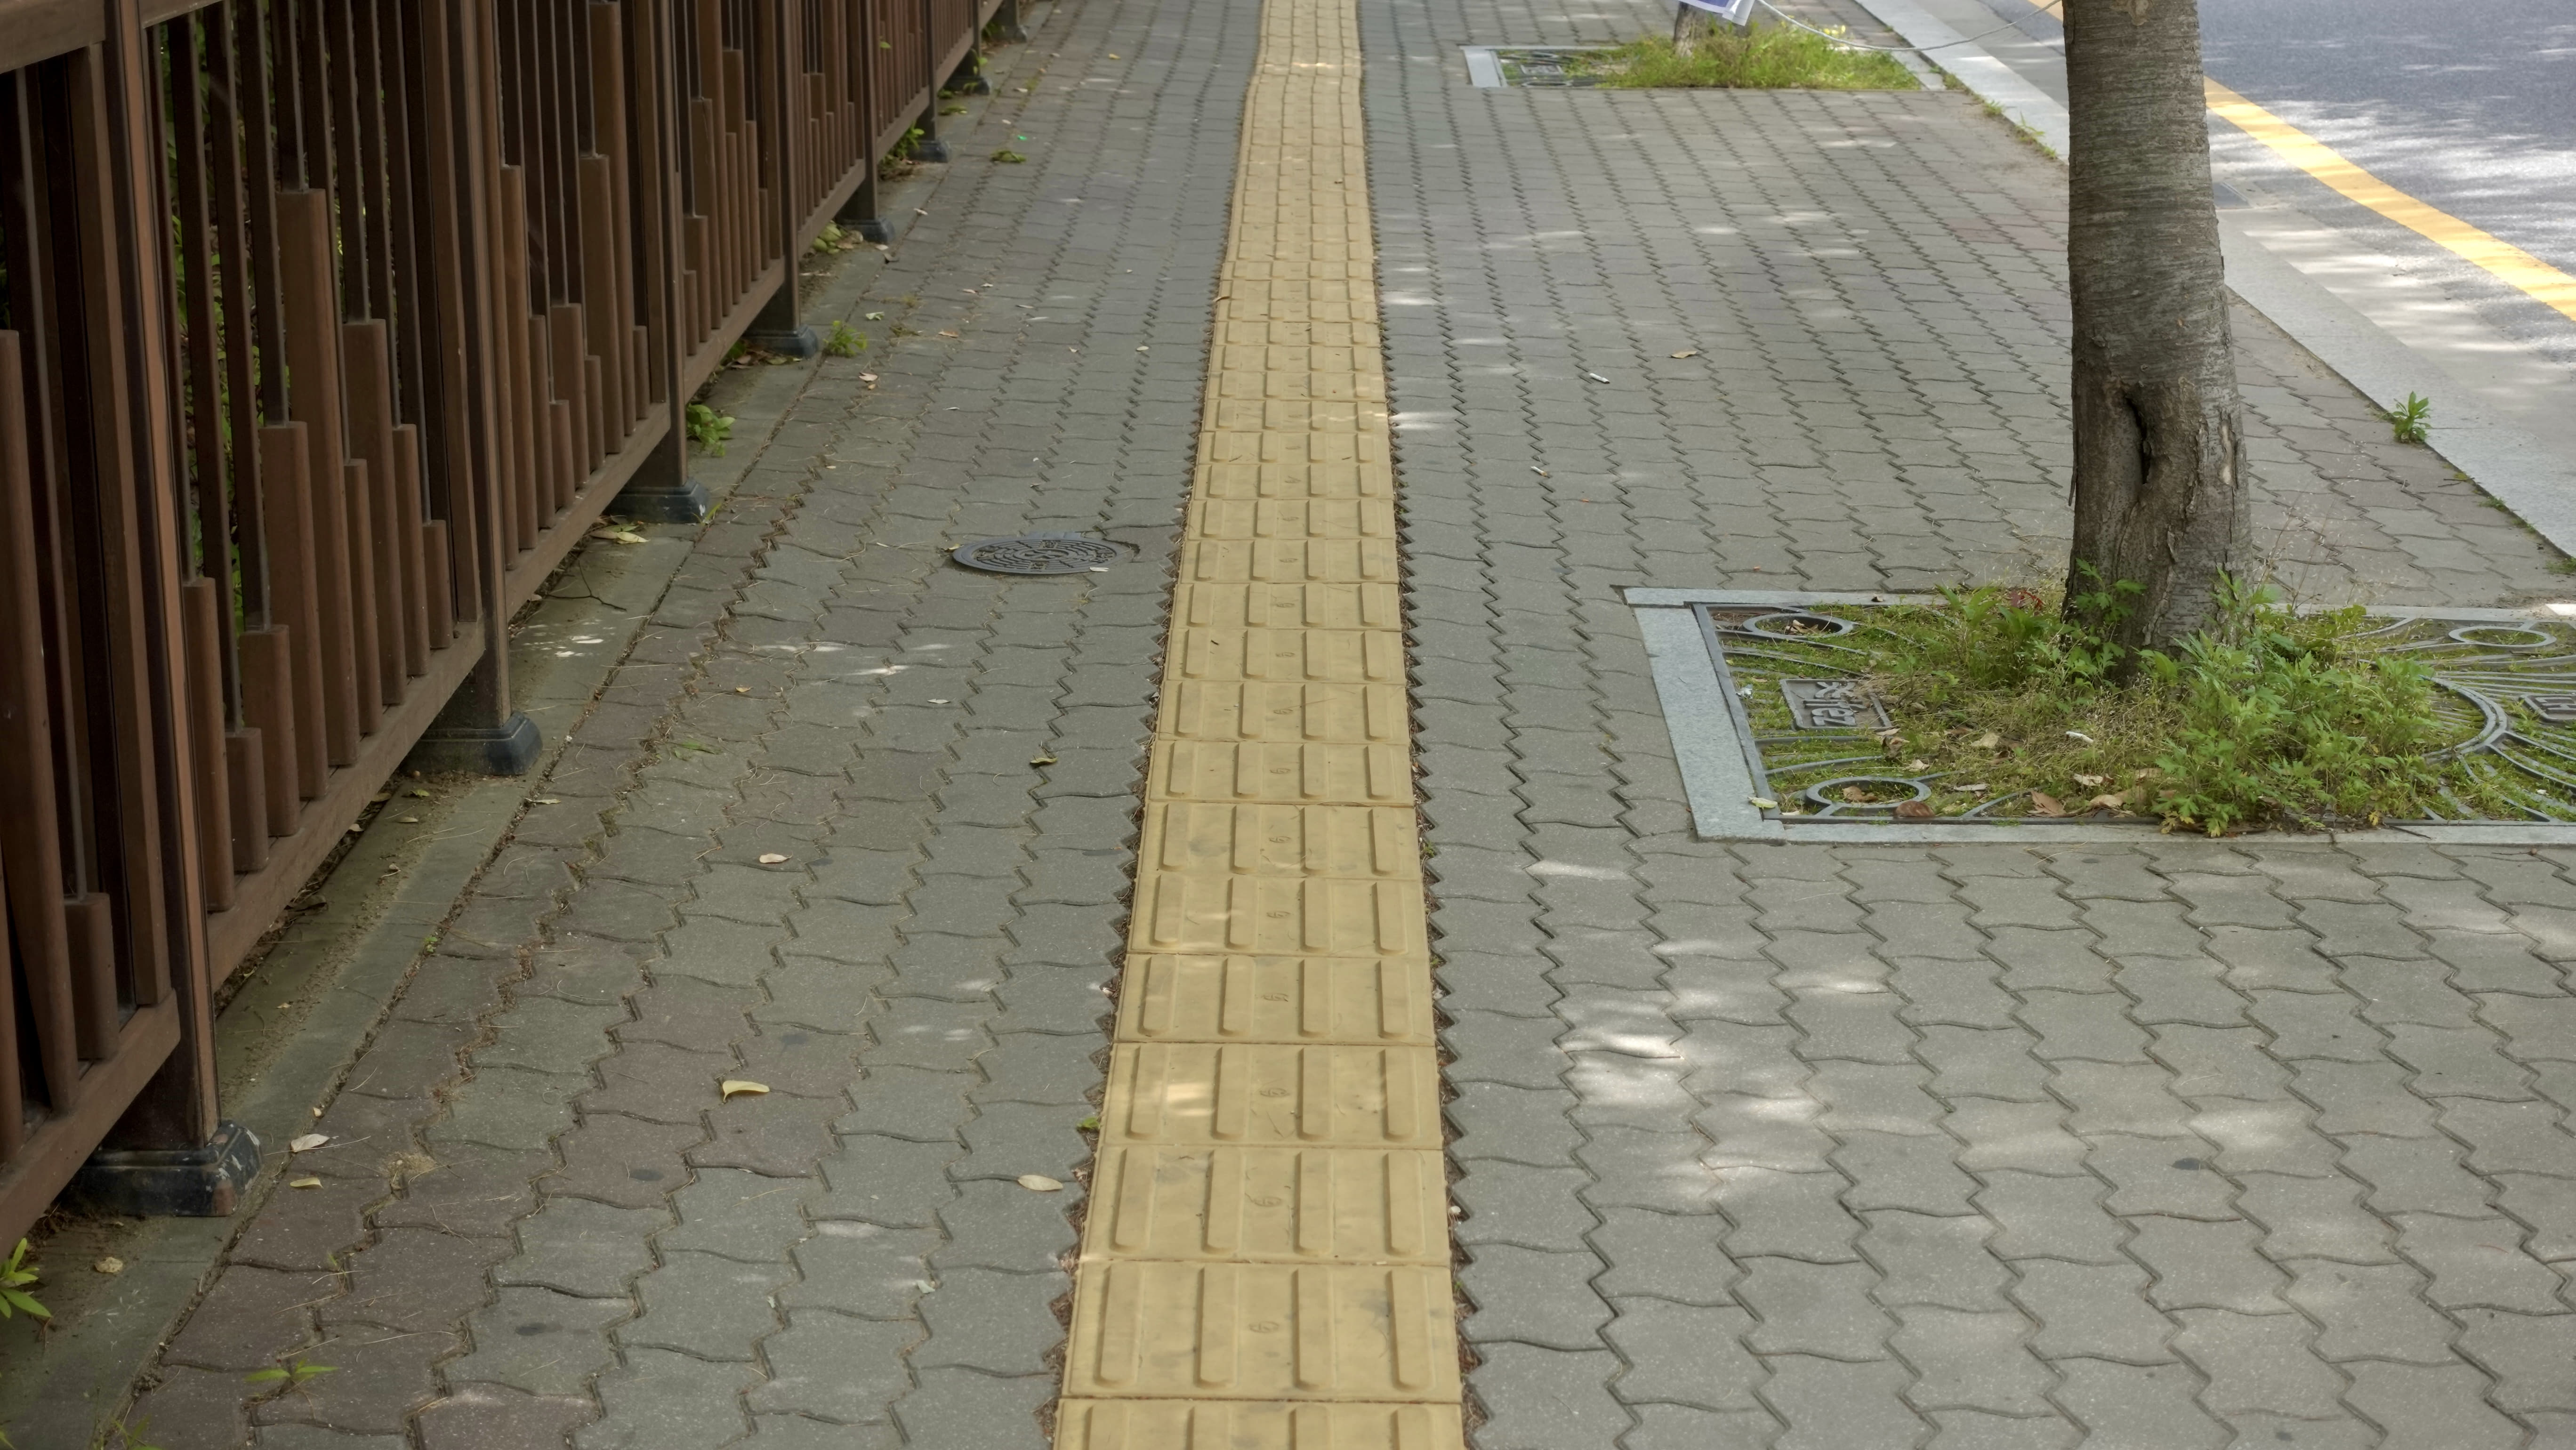guide_blocks: (1054, 635, 1465, 1450), (1173, 108, 1405, 638), (1253, 5, 1364, 110)
